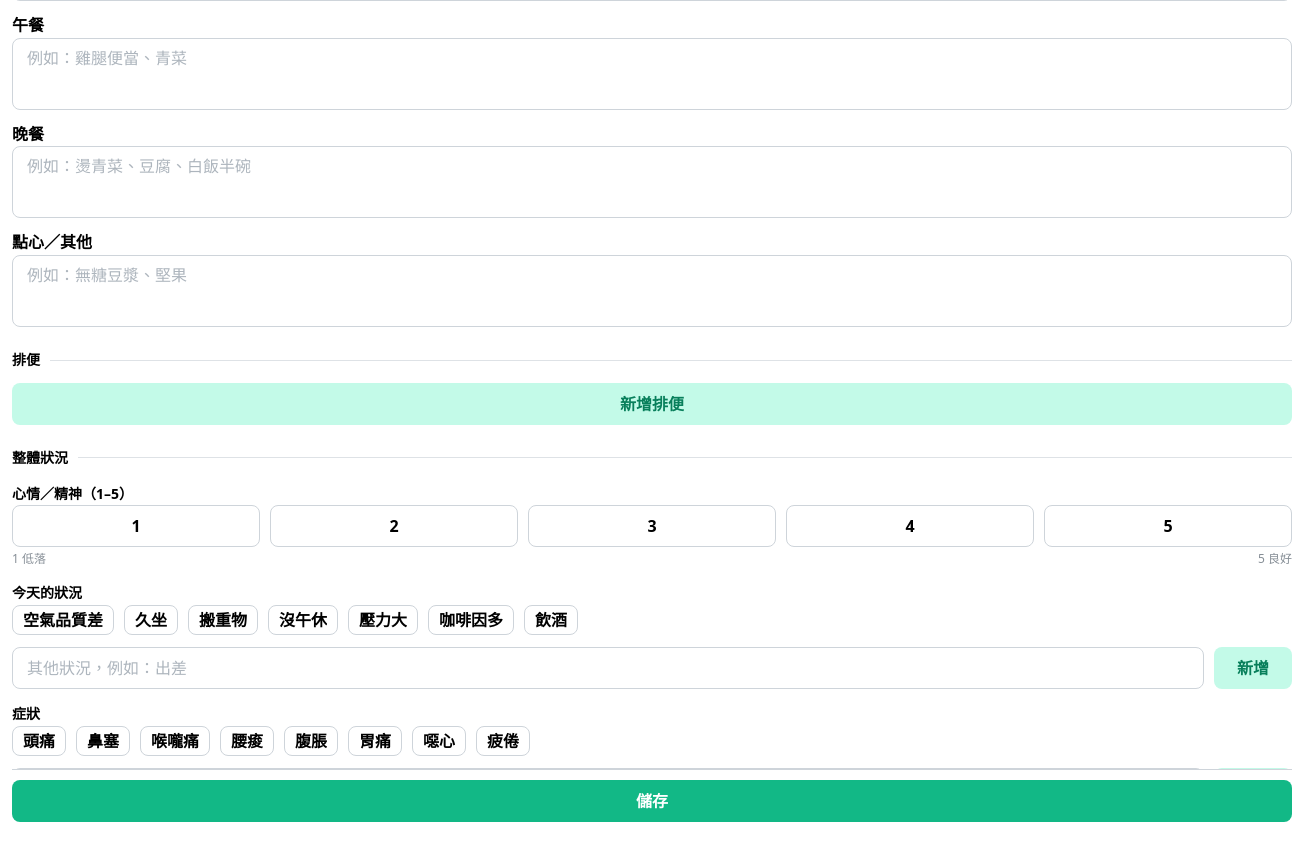
Test case: EntryForm：評分按鈕 › 鍵盤聚焦到數字也會顯示說明，布里斯托每一型都有自己的說明
This screenshot has width=1304, height=853.
(page scrolled)
Click the button "新增排便". click: (652, 404)
box: [12,383,1292,425]
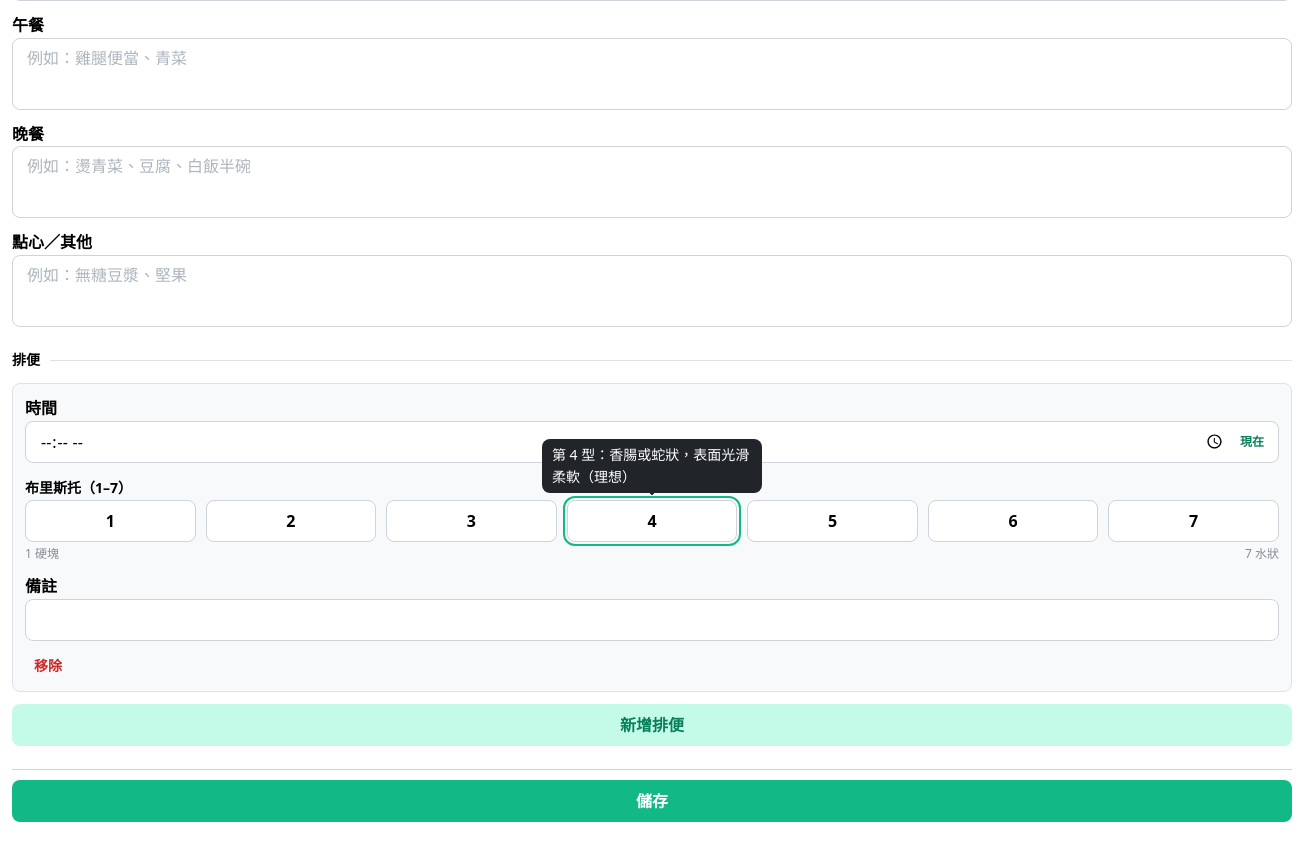
Expected: the tooltip reads "第 4 型：香腸或蛇狀，表面光滑柔軟（理想）", [552,445,749,486]
